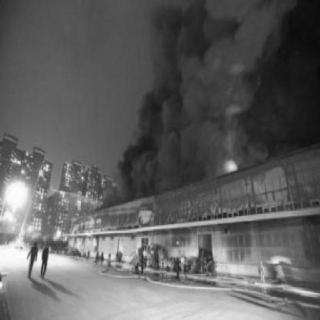Smoke: (130, 5, 208, 183)
